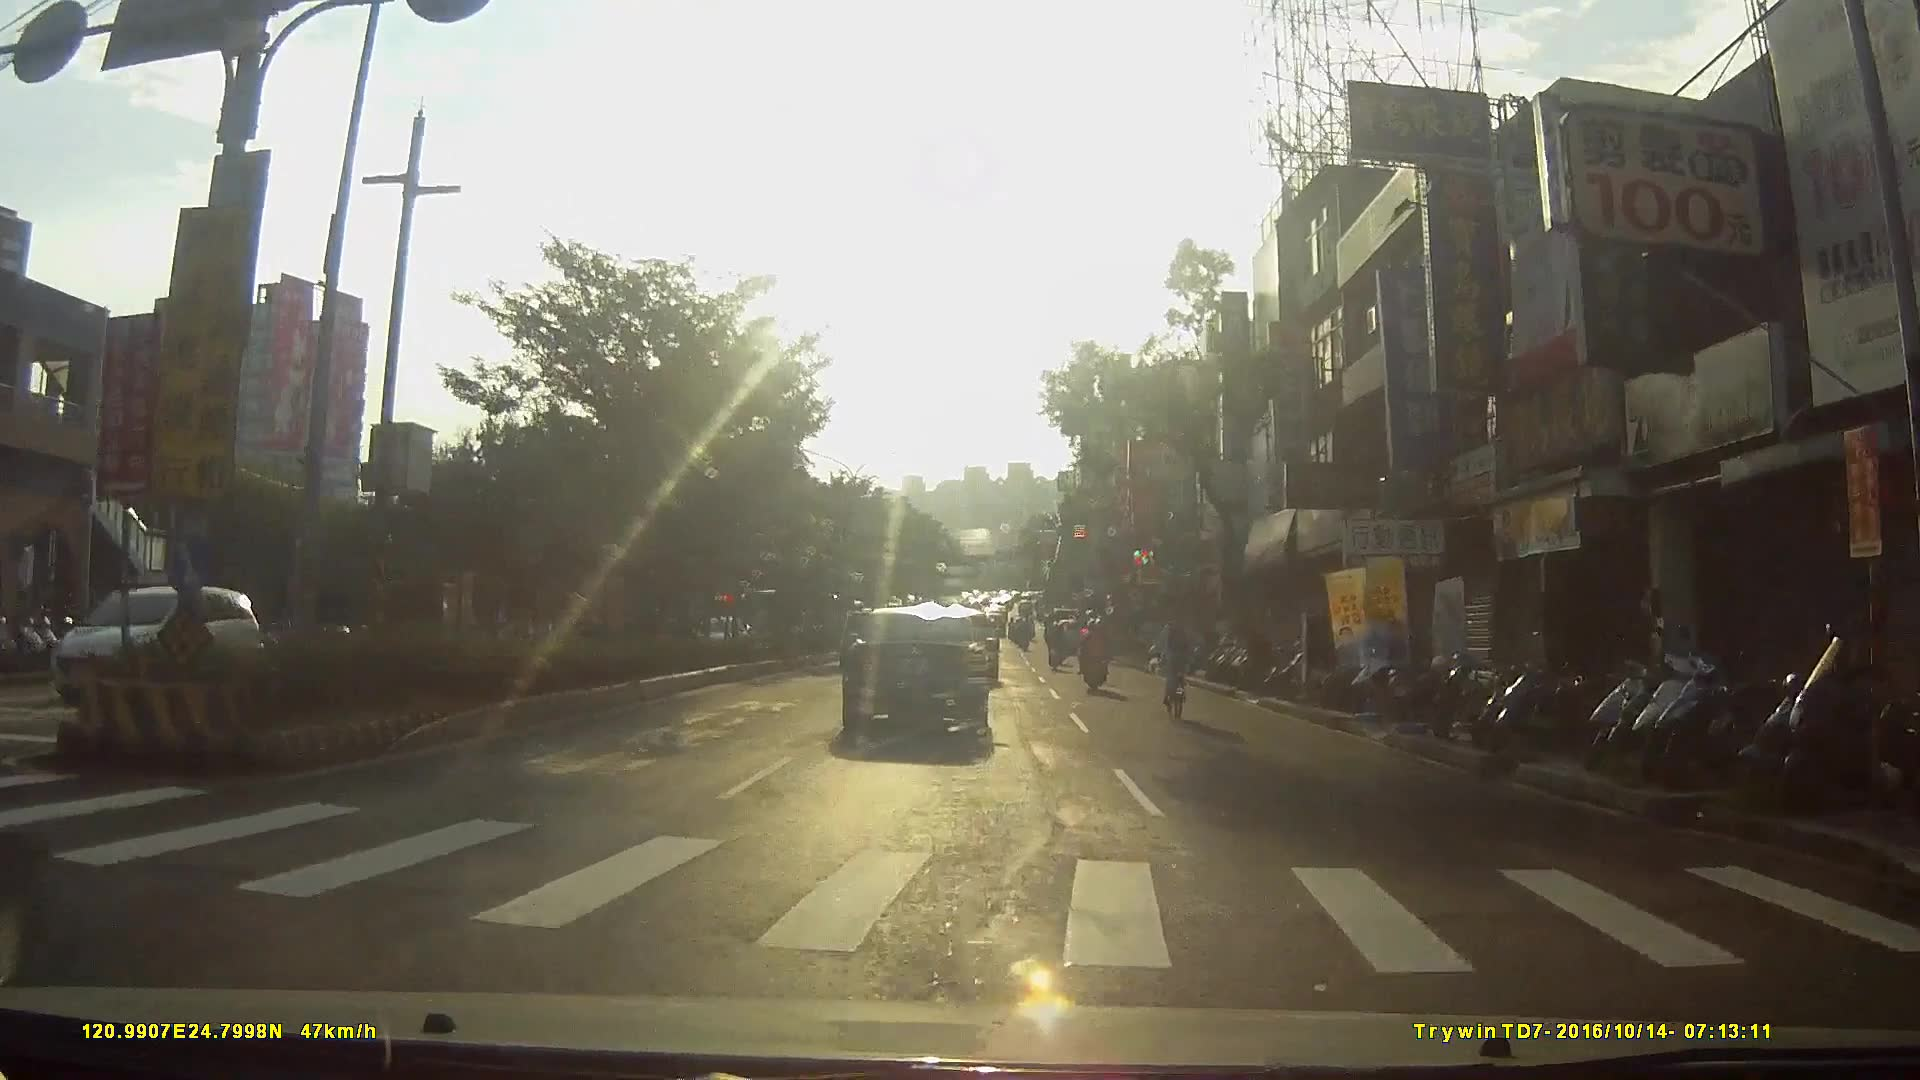rider: (1149, 602, 1203, 719), (1079, 615, 1113, 690), (1045, 621, 1068, 673)
vehicle: (58, 583, 268, 706), (841, 606, 1002, 750)
